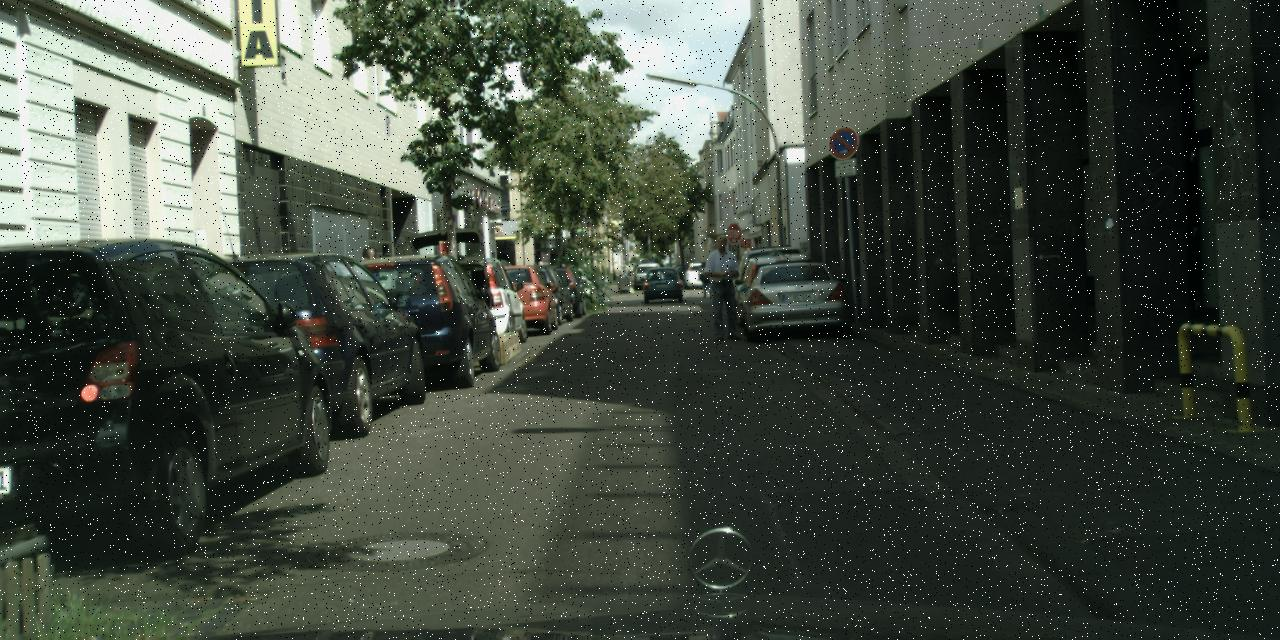ped: (702, 235, 744, 338), (354, 246, 389, 335), (699, 261, 713, 296)
